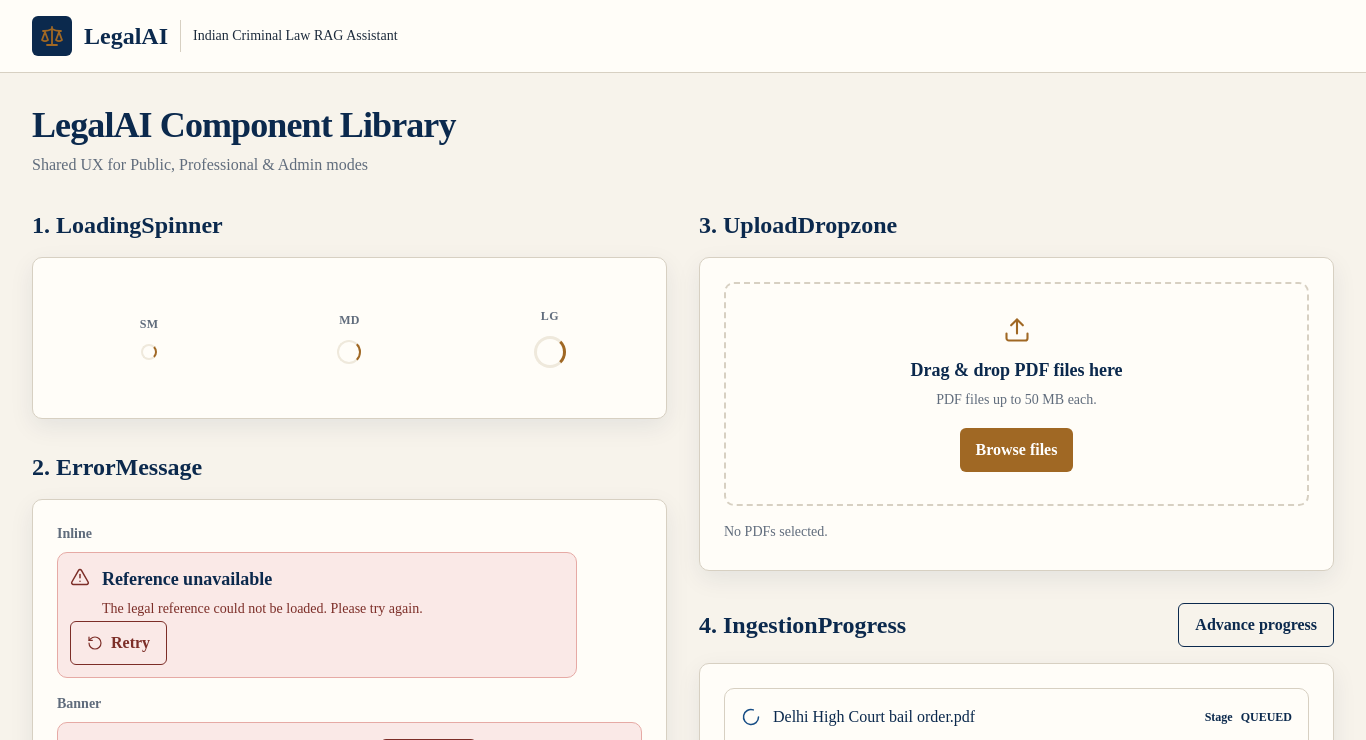
Scenario: PreviewGallery › advances progress by replacing data while preserving the job identity
Click the button "Advance progress": (1256, 625) [1178,603,1334,647]
(page scrolled)
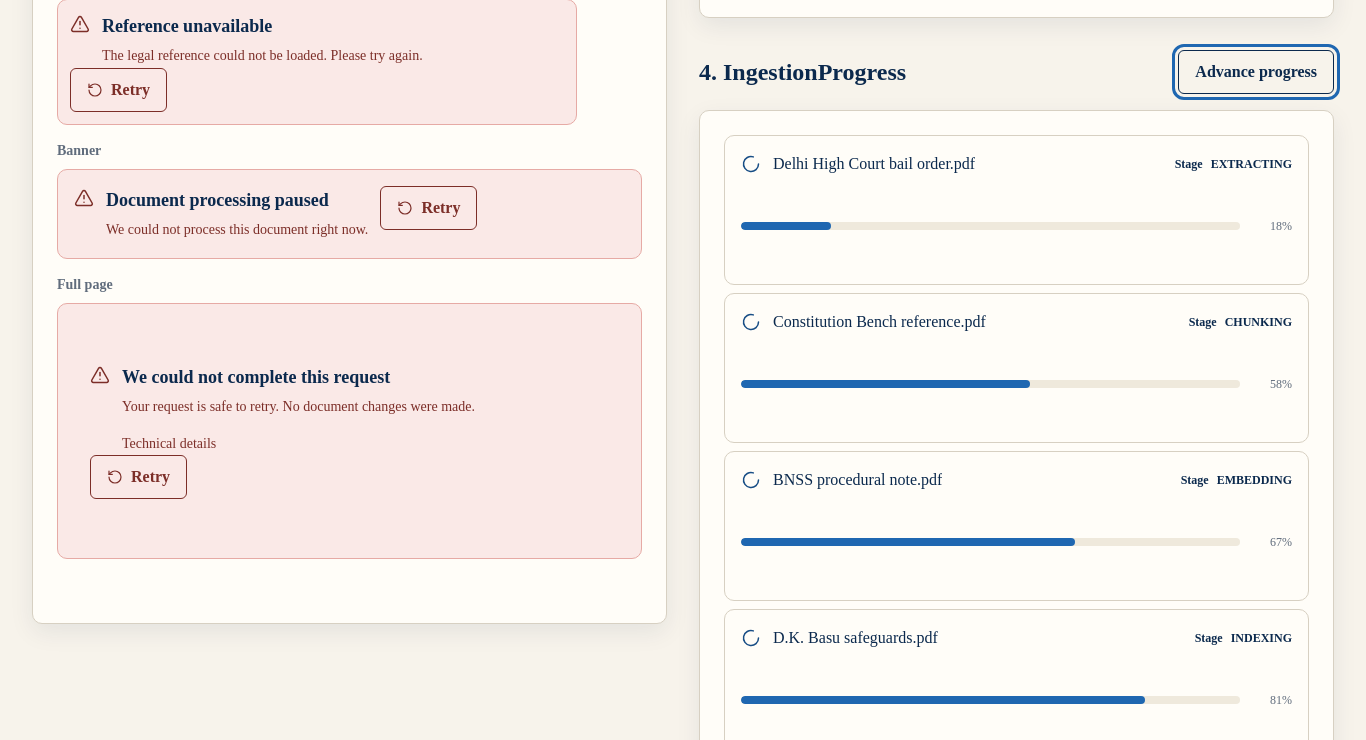
Result: the text "CHUNKING" is shown at [1225,314,1292,330]
